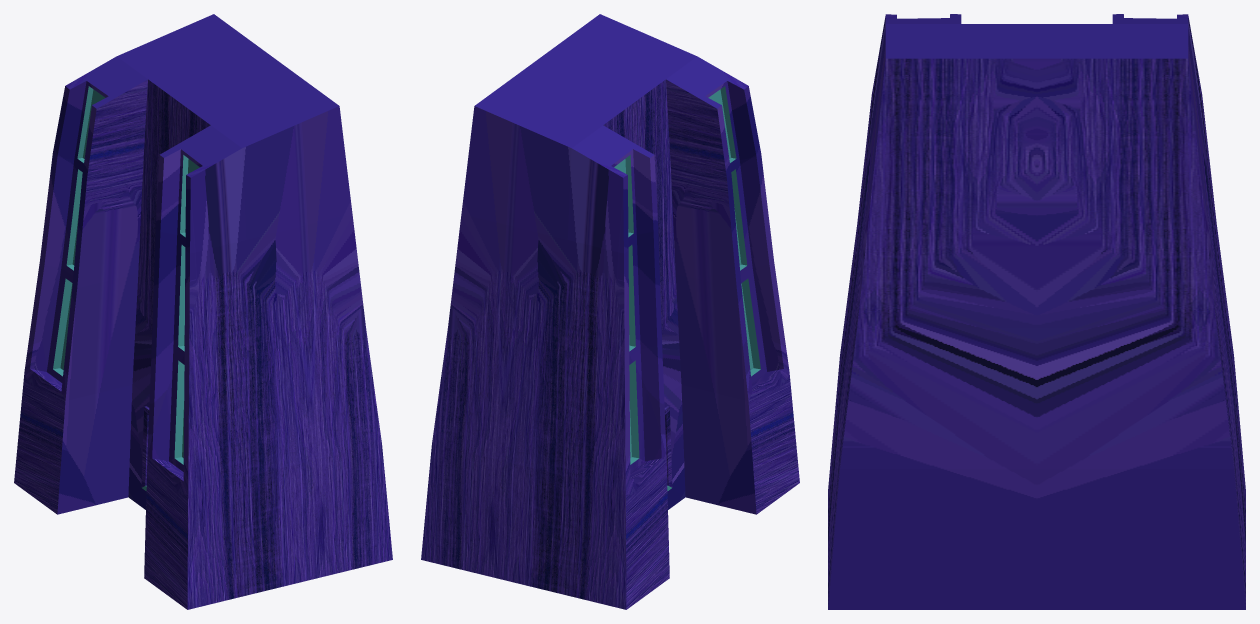
File: Edificio Post 1.fbx
The picture shows the model from 3 angles, left to right: view 1: azimuth 30°, elevation 25°; view 2: azimuth 150°, elevation 25°; view 3: azimuth 270°, elevation 25°; orthographic projection. The views are drawn at different scales.
Parts seen in each view (by area): view 1: edificio kayla.002; view 2: edificio kayla.002; view 3: edificio kayla.002.
Boxes of the visible parts, bbox=[...] form: edificio kayla.002: bbox=[14, 14, 392, 609]; edificio kayla.002: bbox=[421, 14, 799, 609]; edificio kayla.002: bbox=[828, 14, 1245, 609].
Size of the model in its own units: 744 by 1536 by 1089.
